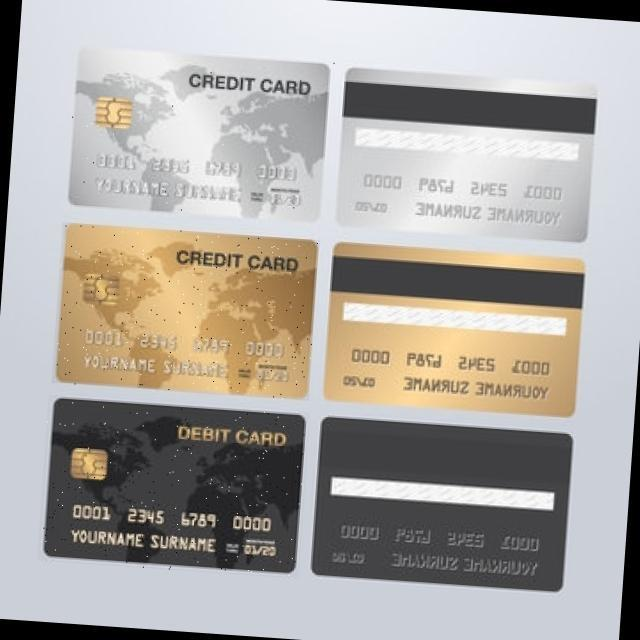payment_card: (334, 64, 598, 244), (67, 44, 330, 223), (53, 223, 319, 398), (320, 242, 586, 417), (45, 397, 306, 574), (312, 415, 573, 591)
